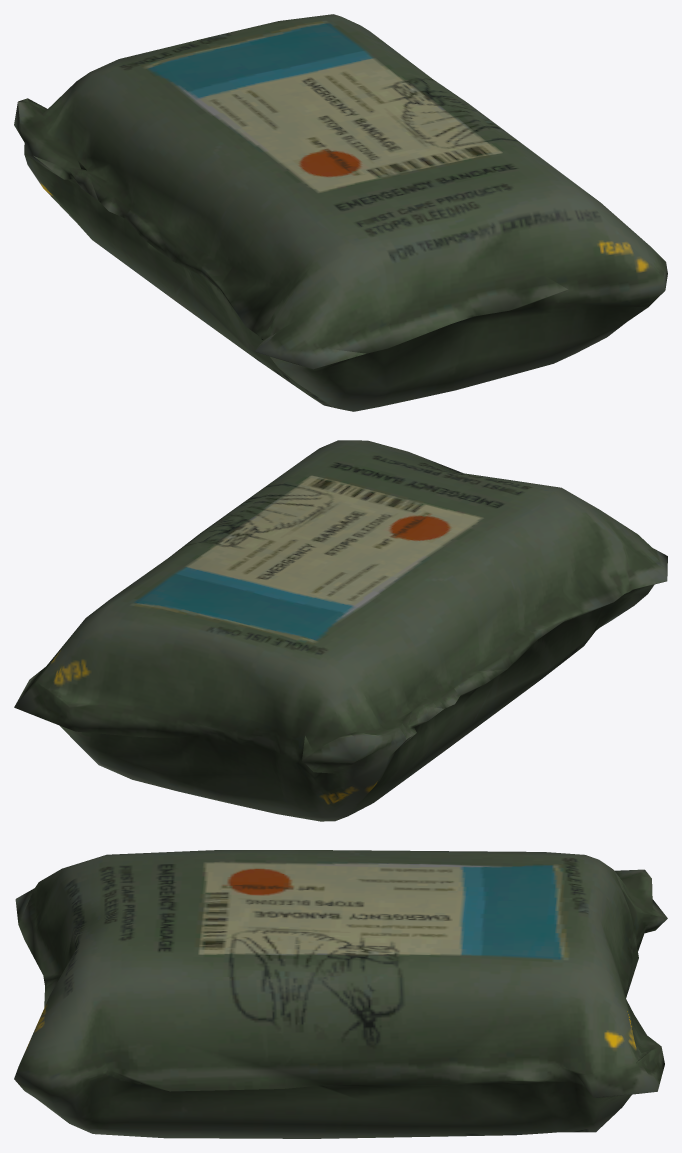
File: pubg_mobile_bandage.glb
The picture shows the model from 3 angles, top to bottom: view 1: azimuth 30°, elevation 25°; view 2: azimuth 150°, elevation 25°; view 3: azimuth 270°, elevation 25°; orthographic projection. The views are drawn at different scales.
Parts seen in each view (by area): view 1: Bandage; view 2: Bandage; view 3: Bandage.
Part boxes in pixels (box(x1,y1,x2,y2)): Bandage: box(14, 14, 667, 411); Bandage: box(14, 440, 667, 821); Bandage: box(14, 850, 667, 1138).
Bounding box in the file's own units: 0.4669 × 0.1993 × 0.6413.
1 material, 1 textured.
